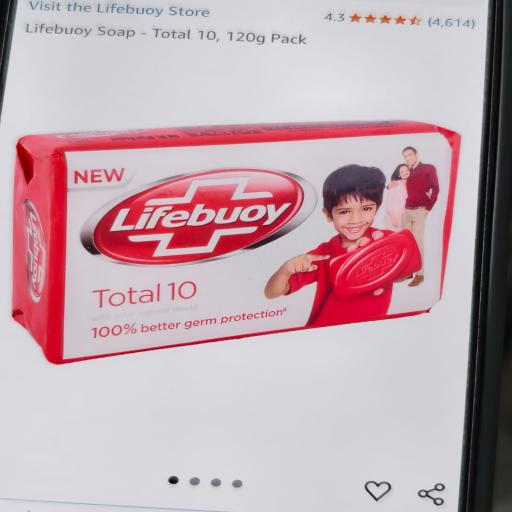lifebuoy: (13, 121, 460, 363)
